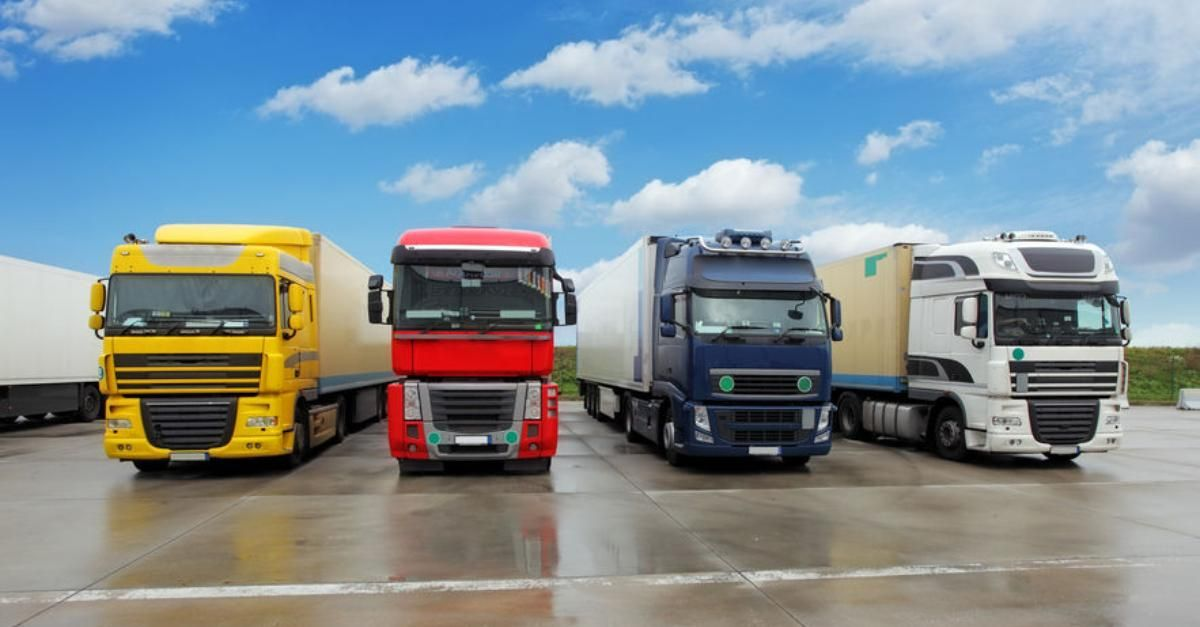truck: (91, 209, 388, 490), (852, 233, 1137, 483), (569, 225, 843, 484), (375, 209, 563, 492)
